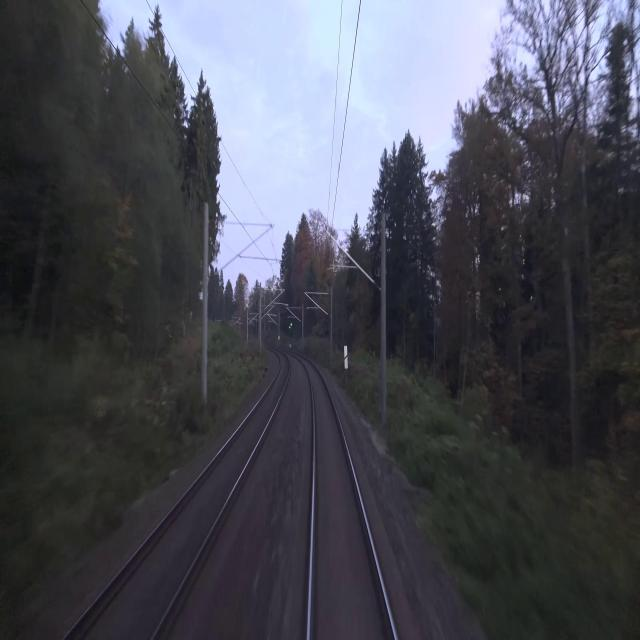rail-track: (63, 354, 288, 639), (305, 361, 393, 639)
